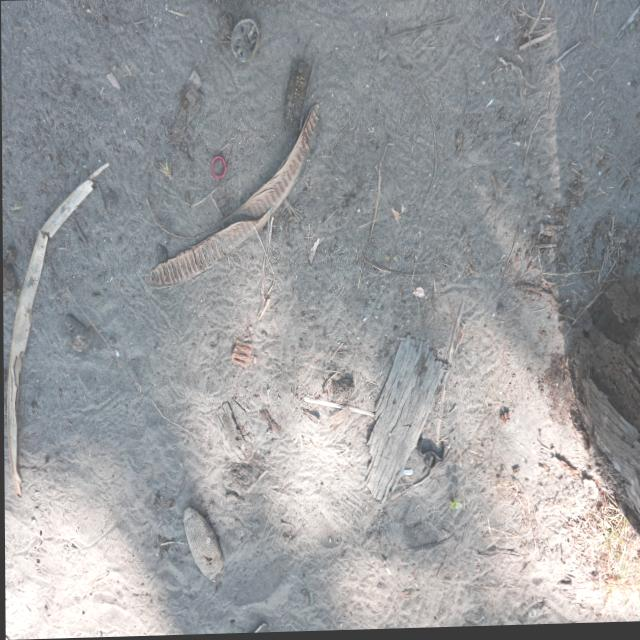Plastic: (298, 386, 377, 425), (226, 15, 260, 66), (228, 339, 255, 371), (208, 154, 227, 181), (395, 468, 412, 482)
